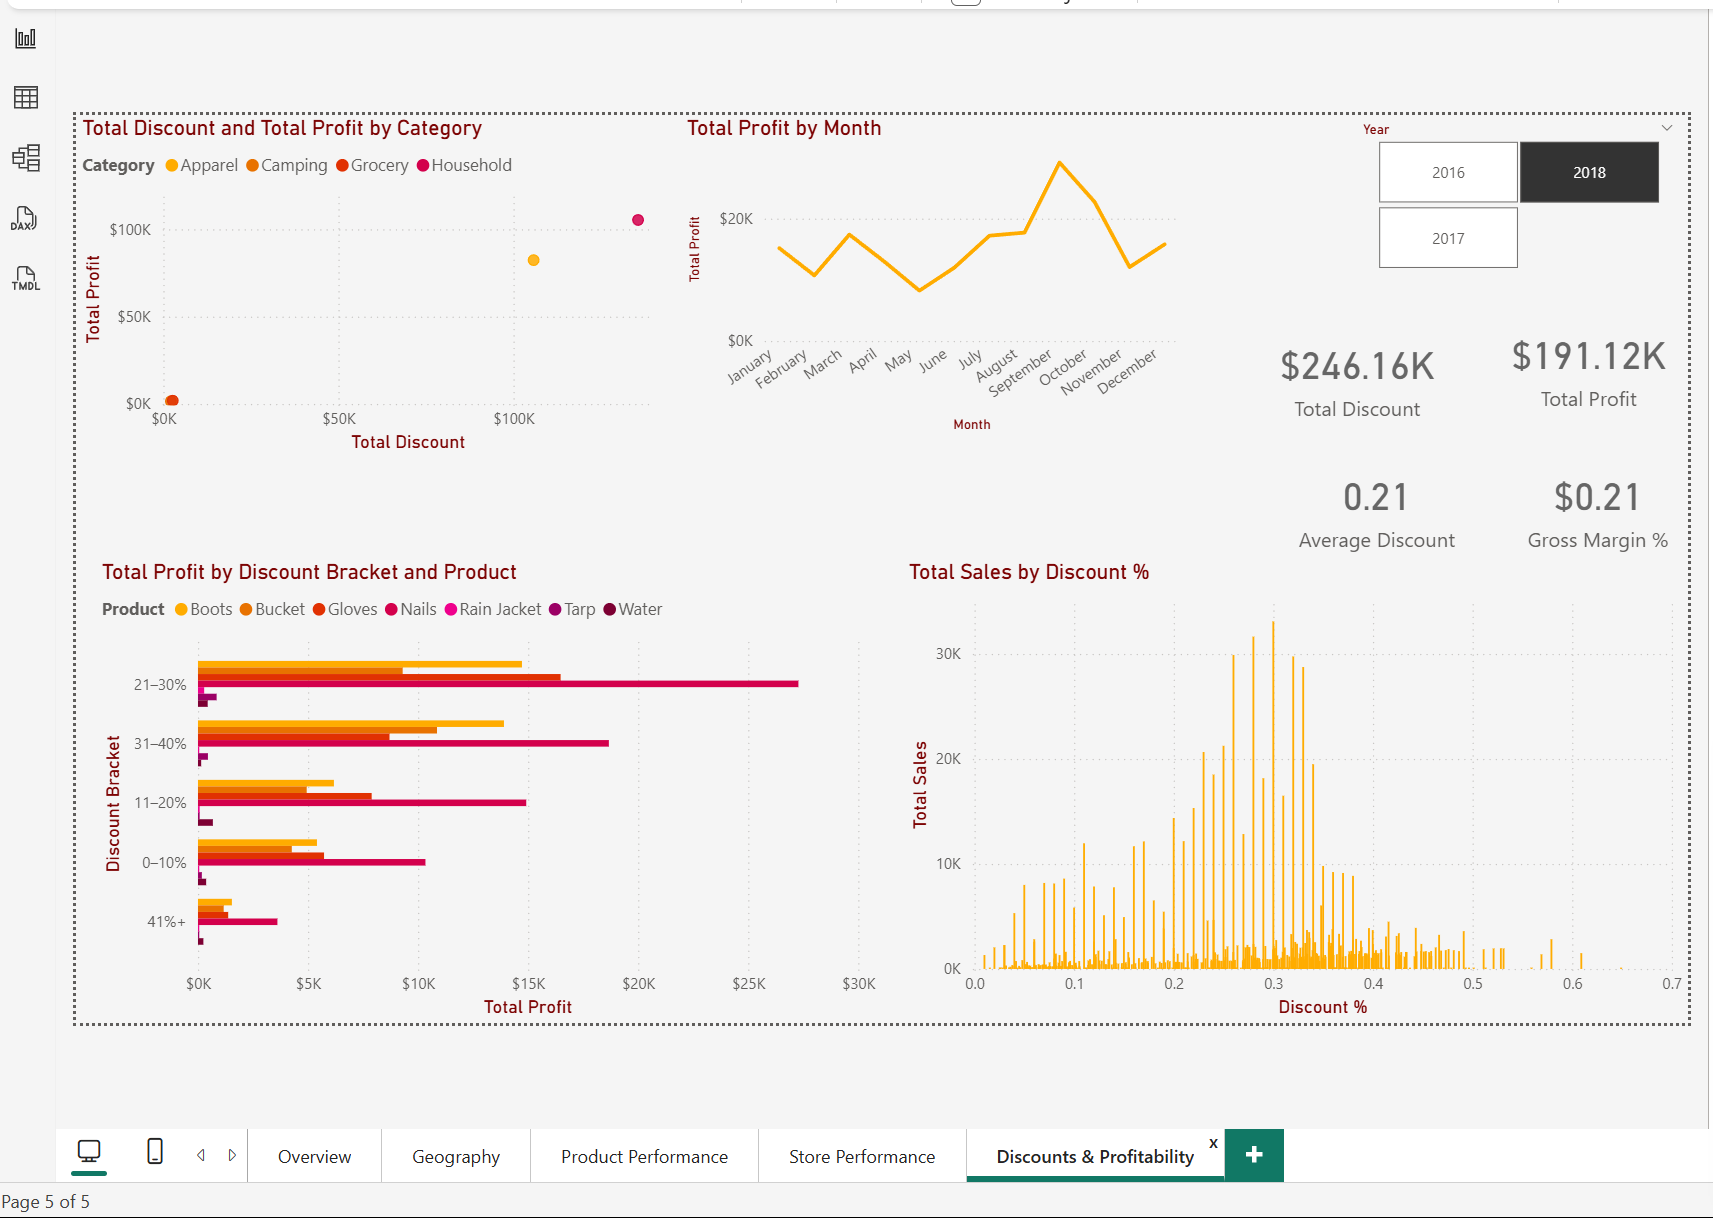

This screenshot's page, from the dashboard's own definition file:
{"tool":"powerbi","page":{"name":"Discounts & Profitability","canvas":[1280,720],"ordinal":4},"visuals":[{"type":"scatterChart","fields":{"X":["Transactions.Total Discount"],"Y":["Transactions.Total Profit"],"Series":["Transactions.Category"]},"box":[0,0,480,272],"z":0},{"type":"card","fields":{"Values":["Transactions.Total Discount"]},"box":[928,160,176,96],"z":1000},{"type":"card","fields":{"Values":["Transactions.Average Discount"]},"box":[944,272,176,80],"z":2000},{"type":"card","fields":{"Values":["Transactions.Gross Margin %"]},"box":[1136,272,144,80],"z":3000},{"type":"card","fields":{"Values":["Transactions.Total Profit"]},"box":[1120,160,160,80],"z":4000},{"type":"lineChart","fields":{"Category":["Transactions.Date.Variation.Date Hierarchy.Month"],"Y":["Transactions.Total Profit"]},"box":[480,0,400,256],"z":5000},{"type":"columnChart","fields":{"Y":["Transactions.Total Sales"],"Category":["Transactions.Discount %"]},"box":[656,352,624,368],"z":6000},{"type":"clusteredBarChart","fields":{"Y":["Transactions.Total Profit"],"Category":["Transactions.Discount Bracket"],"Series":["Transactions.Product"]},"box":[16,352,624,368],"z":7000},{"type":"slicer","fields":{"Values":["Transactions.Date.Variation.Date Hierarchy.Year"]},"box":[1008,0,272,128],"z":8000}]}

Visuals, with their boxes on the page's 1280x720 design canvas (x1, y1, x2, y2). These are canvas units, not pixel positions in the 1713x1218 screenshot, which may show the page scaled, cropped or inside an application window:
scatterChart - Transactions.Total Discount x Transactions.Total Profit: box=[0, 0, 480, 272]
card - Transactions.Total Discount: box=[928, 160, 1104, 256]
card - Transactions.Average Discount: box=[944, 272, 1120, 352]
card - Transactions.Gross Margin %: box=[1136, 272, 1280, 352]
card - Transactions.Total Profit: box=[1120, 160, 1280, 240]
lineChart - Transactions.Date.Variation.Date Hierarchy.Month x Transactions.Total Profit: box=[480, 0, 880, 256]
columnChart - Transactions.Total Sales x Transactions.Discount %: box=[656, 352, 1280, 720]
clusteredBarChart - Transactions.Total Profit x Transactions.Discount Bracket: box=[16, 352, 640, 720]
slicer - Transactions.Date.Variation.Date Hierarchy.Year: box=[1008, 0, 1280, 128]
